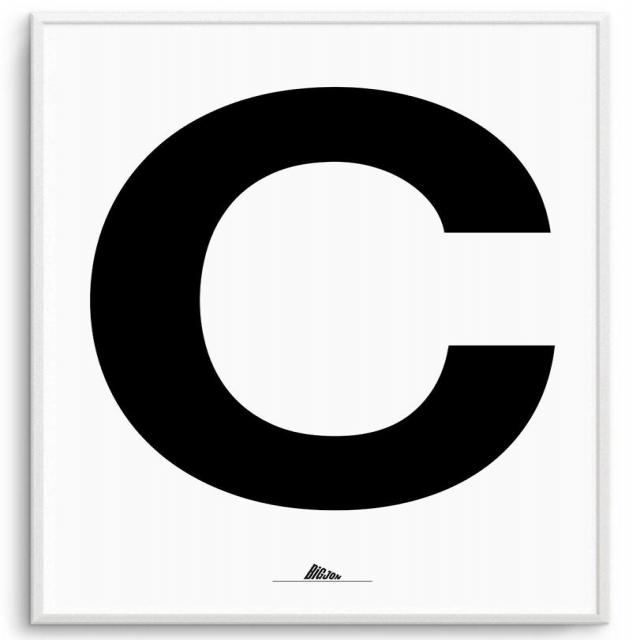C: (69, 56, 568, 557)
